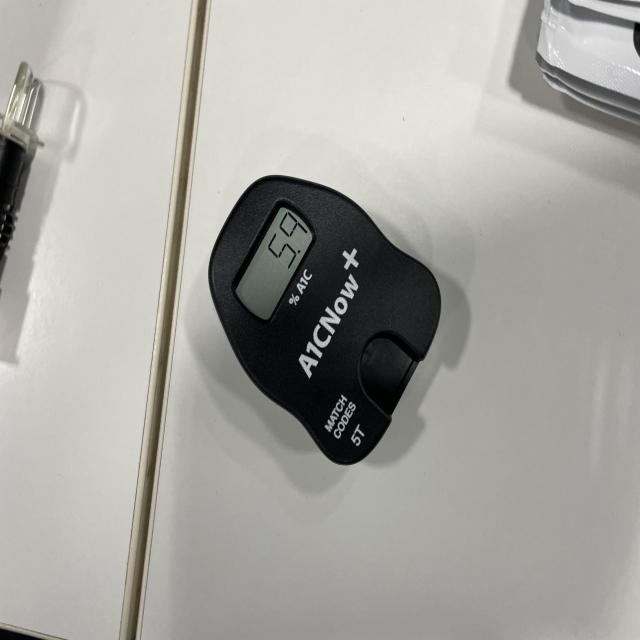hba1c: (206, 175, 443, 468)
